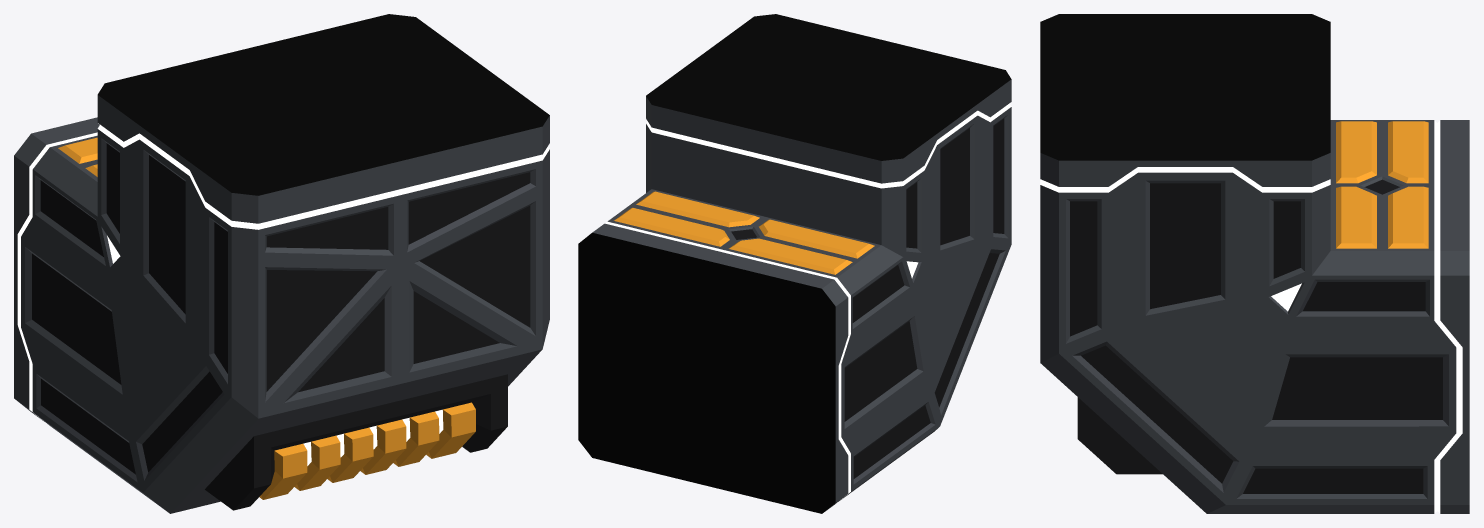
The model's file is SM_Corner_section_of_the_conveyor_elevator.glb.
3 views of the same model, side by side, from view 1: azimuth 30°, elevation 25°; view 2: azimuth 150°, elevation 25°; view 3: azimuth 270°, elevation 25° (orthographic). The views are drawn at different scales.
Visible parts, largest first — view 1: SM_Corner_section_of_the_conveyor_elevator; view 2: SM_Corner_section_of_the_conveyor_elevator; view 3: SM_Corner_section_of_the_conveyor_elevator.
Part boxes in pixels (x1,y1,x2,y2): SM_Corner_section_of_the_conveyor_elevator: (14, 14, 549, 513); SM_Corner_section_of_the_conveyor_elevator: (578, 14, 1011, 513); SM_Corner_section_of_the_conveyor_elevator: (1040, 14, 1469, 513).
Size of the model in its own units: 1.22 by 1.42 by 1.51.
2 materials, 1 textured.
